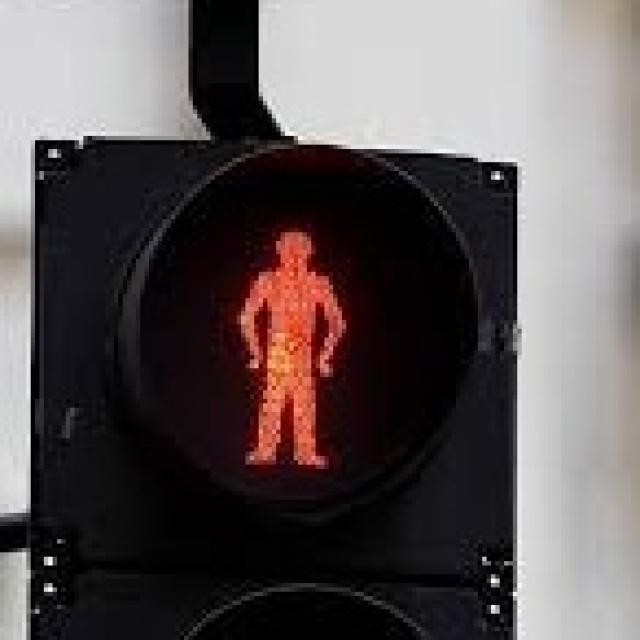red-crossing: (210, 184, 355, 487)
